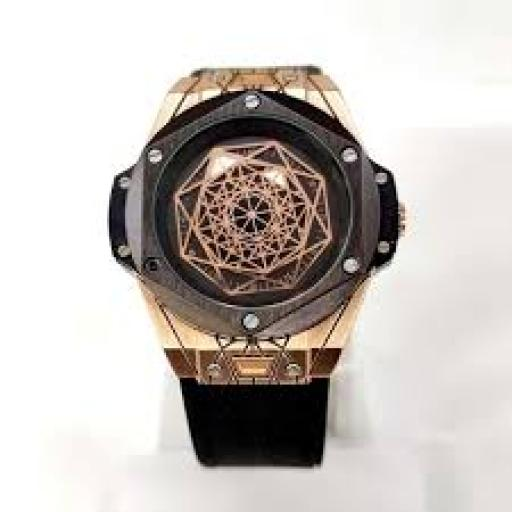KolSaati: (94, 40, 402, 478)
